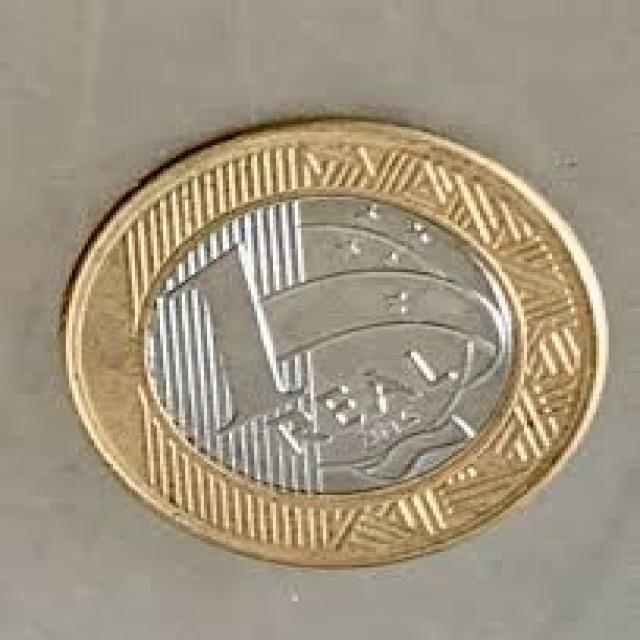1 real: (76, 126, 604, 562)
